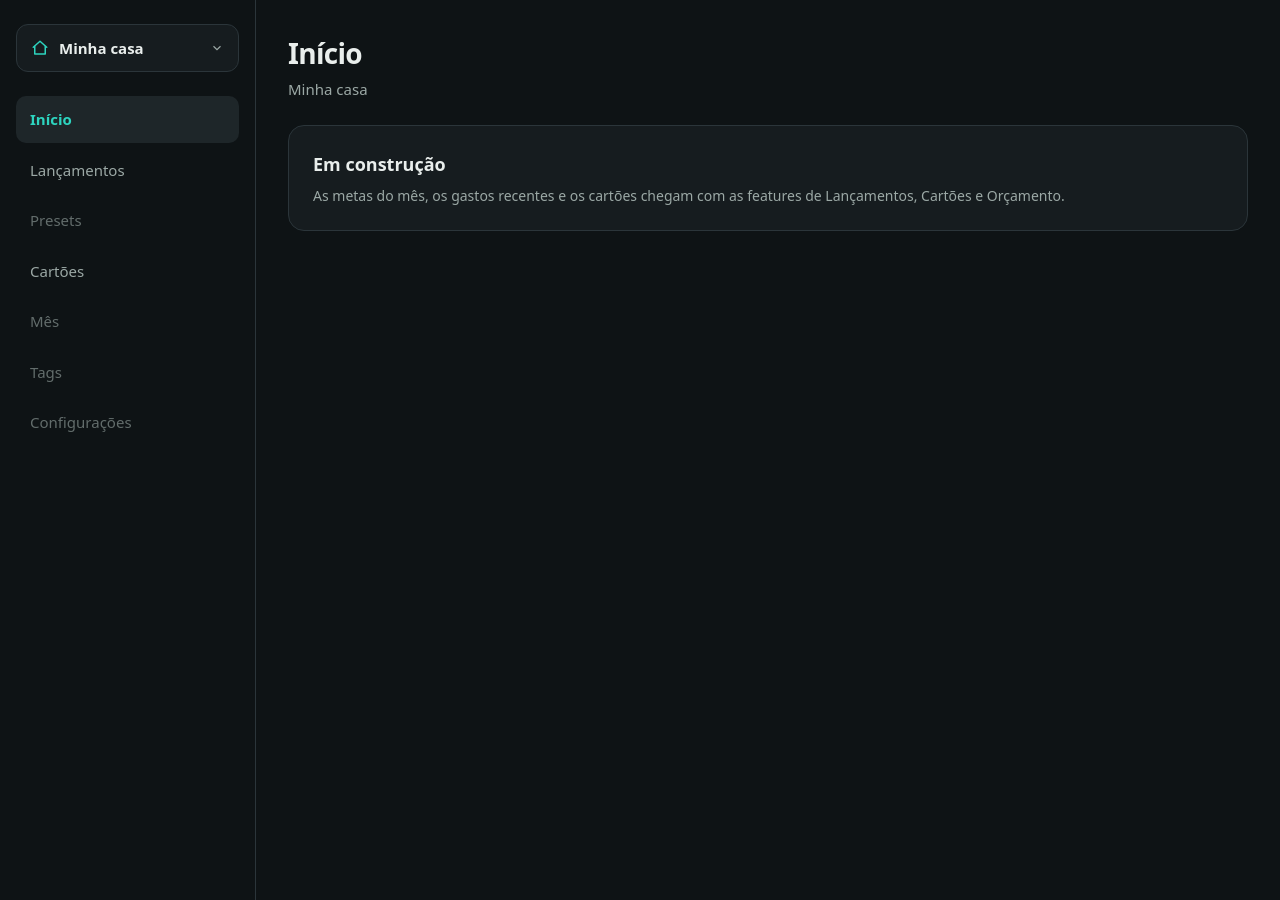
Scenario: espaços vindos da API › mostra no seletor e no início os nomes que a API devolveu
expect the element that starts with "Início" shows "Minha casa": met, box left=288, top=79, right=368, bottom=99
Click the button with aria-label "Trocar de espaço, Minha casa" at (128, 48), box left=16, top=24, right=239, bottom=72
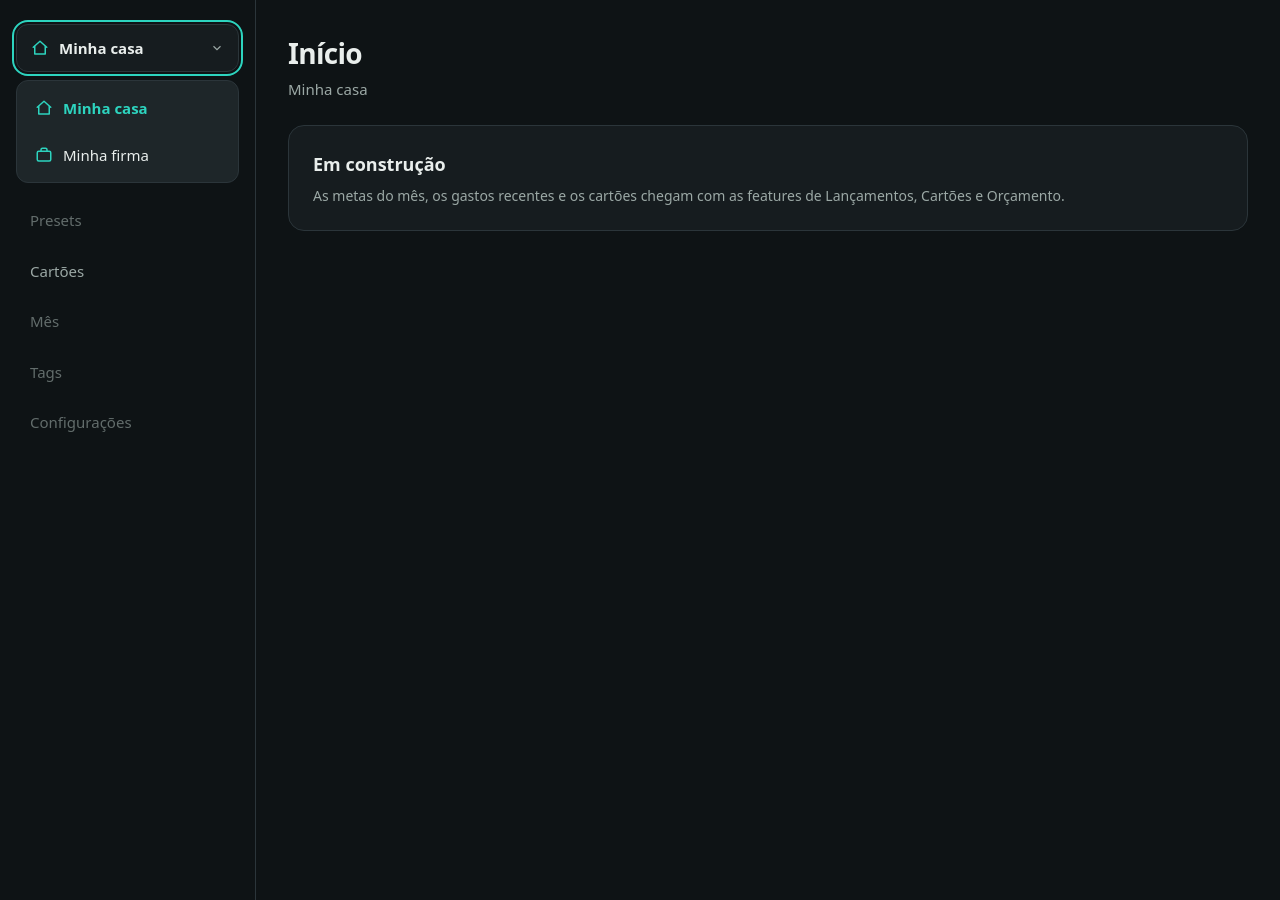
expect the link "Minha casa" is shown: met, box left=35, top=98, right=148, bottom=118
expect the link "Minha firma" is shown: met, box left=35, top=144, right=149, bottom=164
